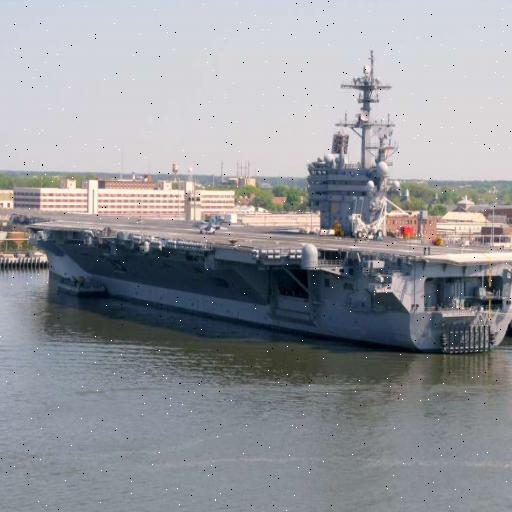Portanaves: (8, 33, 512, 355)
